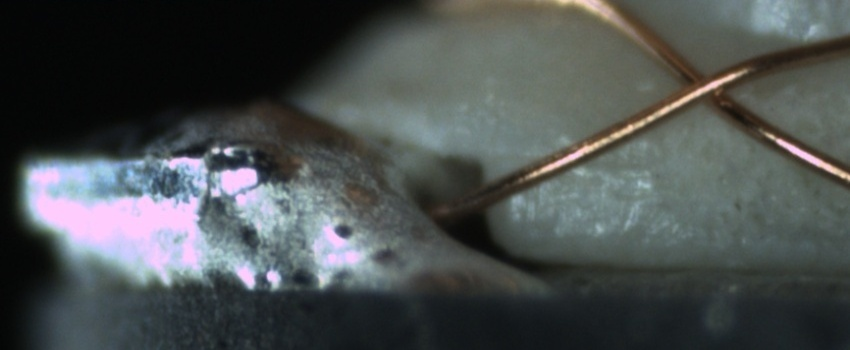CL: (655, 52, 752, 120)
DL: (503, 137, 651, 190)
